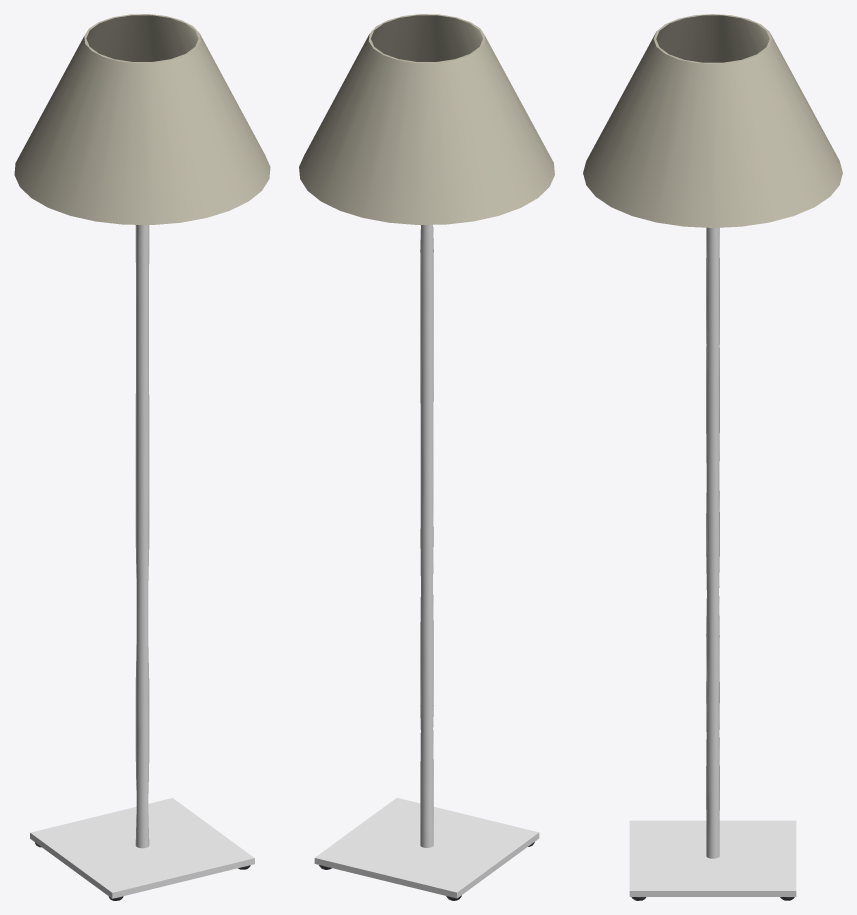
The model's file is Lamp.FBX.
3 views of the same model, side by side, from view 1: azimuth 30°, elevation 25°; view 2: azimuth 150°, elevation 25°; view 3: azimuth 270°, elevation 25° (orthographic).
Parts seen in each view (by area): view 1: Lighting_Fixtures_Floor_Lamp_2 100_Watt_Incandescent [203599; view 2: Lighting_Fixtures_Floor_Lamp_2 100_Watt_Incandescent [203599; view 3: Lighting_Fixtures_Floor_Lamp_2 100_Watt_Incandescent [203599.
Part boxes in pixels (<box>): Lighting_Fixtures_Floor_Lamp_2 100_Watt_Incandescent [203599: <box>14,14,270,900</box>; Lighting_Fixtures_Floor_Lamp_2 100_Watt_Incandescent [203599: <box>299,14,554,900</box>; Lighting_Fixtures_Floor_Lamp_2 100_Watt_Incandescent [203599: <box>583,14,842,900</box>.
Bounding box in the file's own units: 476 × 476 × 1674.
